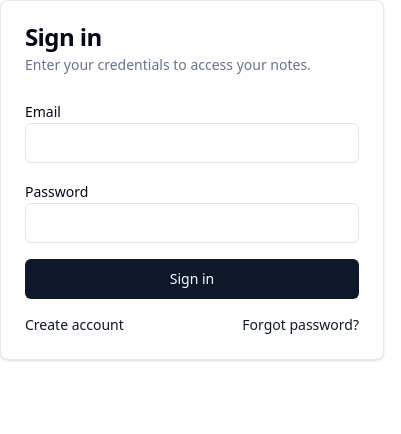
auth-ui › Login screen › blocks submit on client-side validation failure
Type "not-an-email" into the field labelled "Email" at (192,143), box left=25, top=123, right=359, bottom=163
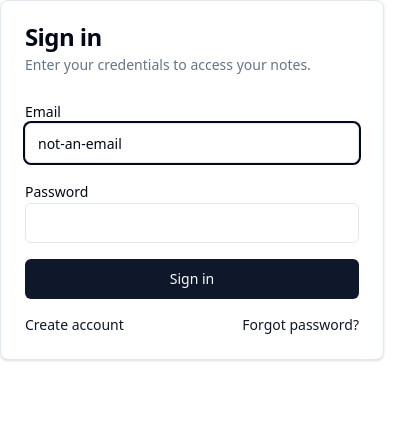
Click the button "Sign in" at (192,279), box left=25, top=259, right=359, bottom=299
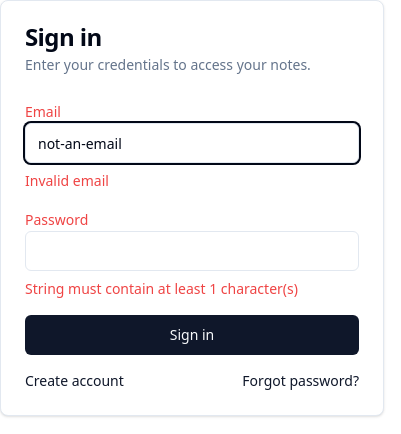
Check: the message "Invalid email" is shown, box left=25, top=171, right=109, bottom=190
